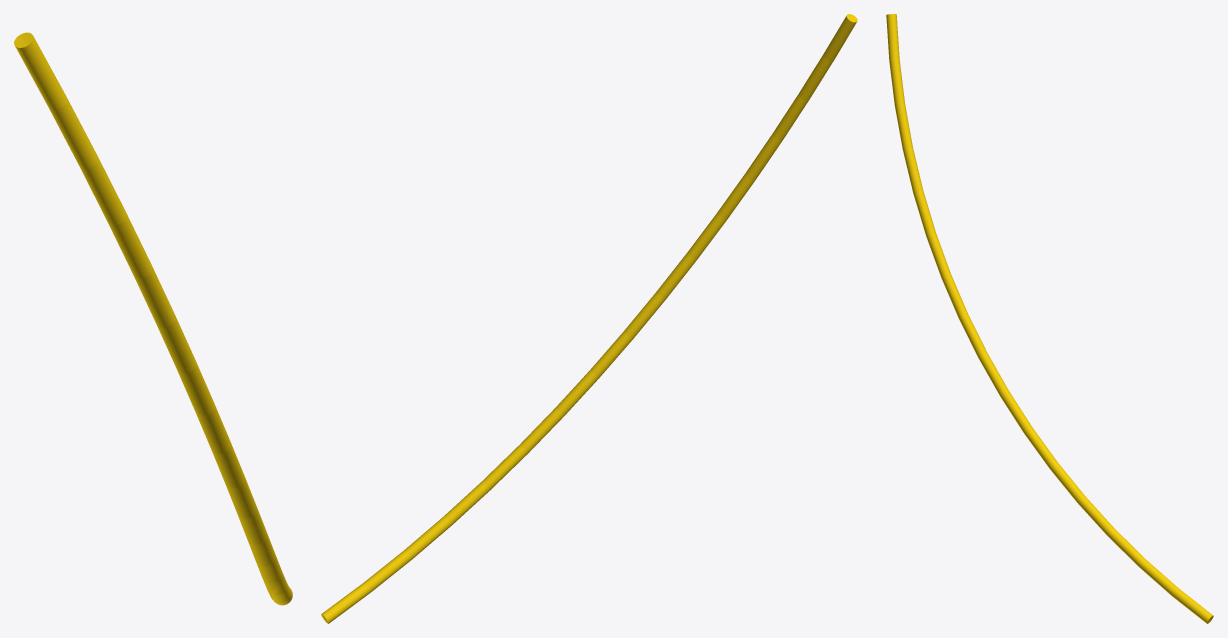
File: Event_421127236_track_7.fbx
3 views of the same model, side by side, from view 1: azimuth 30°, elevation 25°; view 2: azimuth 150°, elevation 25°; view 3: azimuth 270°, elevation 25° (orthographic). The views are drawn at different scales.
Visible parts, largest first — view 1: Model; view 2: Model; view 3: Model.
Part boxes in pixels (<box>): Model: <box>14,32,292,605</box>; Model: <box>321,14,857,623</box>; Model: <box>886,14,1213,623</box>.
Bounding box in the file's own units: 1.31 × 1.98 × 1.25.
